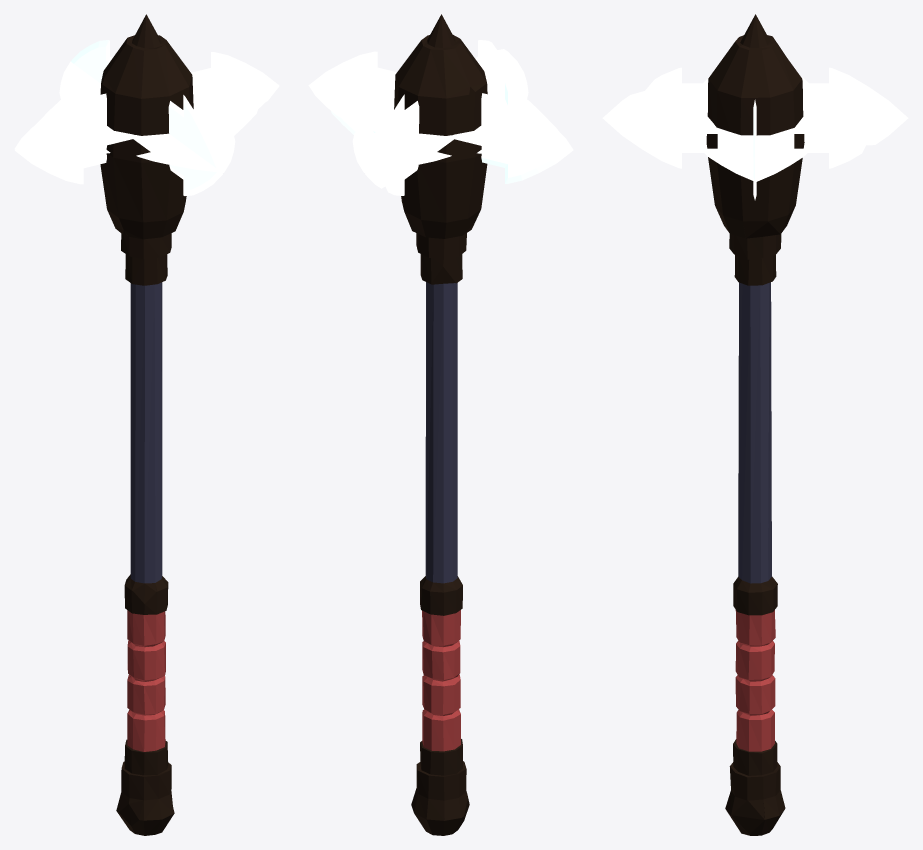
Rendered from SFFA_Weapon_Mace_Runical_005.fbx.
The picture shows the model from 3 angles, left to right: view 1: azimuth 30°, elevation 25°; view 2: azimuth 150°, elevation 25°; view 3: azimuth 270°, elevation 25°; orthographic projection.
Visible parts, largest first — view 1: SFFA_Weapon_Mace_Runical_005; view 2: SFFA_Weapon_Mace_Runical_005; view 3: SFFA_Weapon_Mace_Runical_005.
Part boxes in pixels (bbox=[...]): SFFA_Weapon_Mace_Runical_005: bbox=[14, 14, 279, 835]; SFFA_Weapon_Mace_Runical_005: bbox=[308, 14, 573, 835]; SFFA_Weapon_Mace_Runical_005: bbox=[602, 14, 908, 835].
Bounding box in the file's own units: 28.73 × 84.42 × 28.73.
